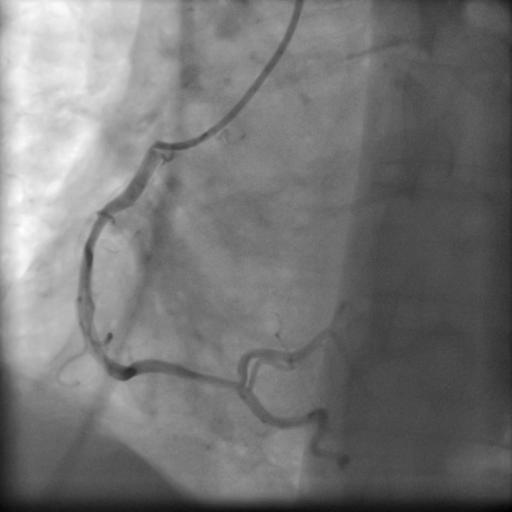Stenosis: (181, 360, 241, 394)
